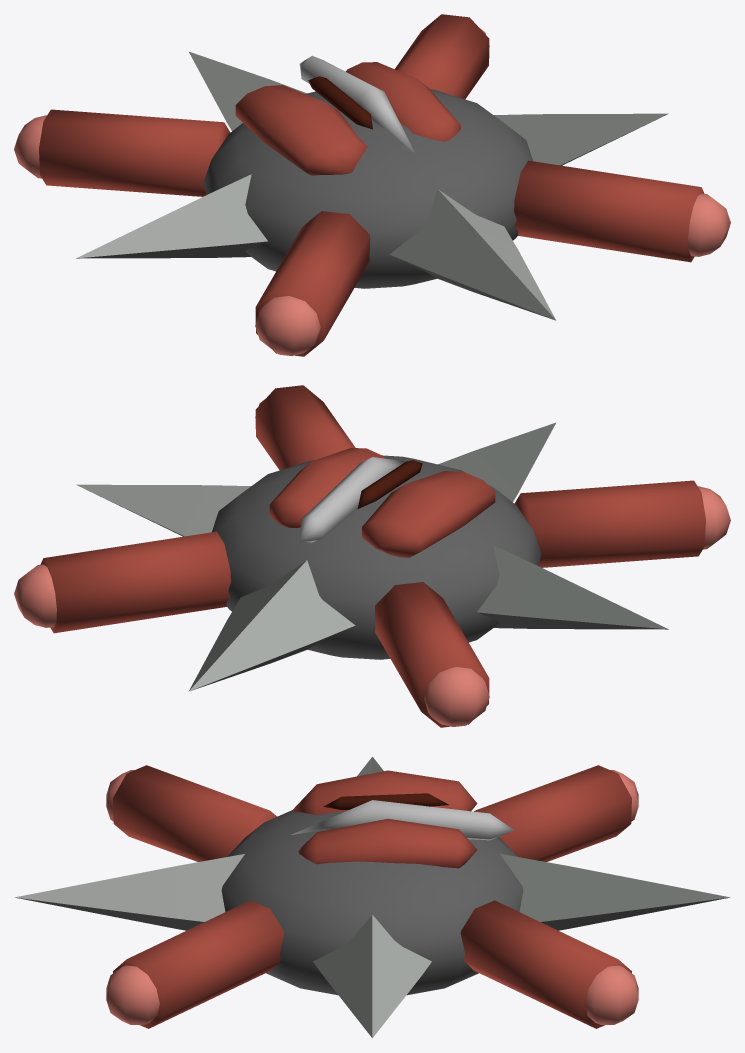
The model's file is newsh3-246.glb.
3 renders of one model, top to bottom at view 1: azimuth 30°, elevation 25°; view 2: azimuth 150°, elevation 25°; view 3: azimuth 270°, elevation 25°, orthographic. The views are drawn at different scales.
Visible parts, largest first — view 1: newsh3-246; view 2: newsh3-246; view 3: newsh3-246.
Boxes of the visible parts, <box> form: newsh3-246: <box>14,14,730,356</box>; newsh3-246: <box>14,385,730,727</box>; newsh3-246: <box>14,756,730,1038</box>.
Bounding box in the file's own units: 1.8 × 0.51 × 1.93.
